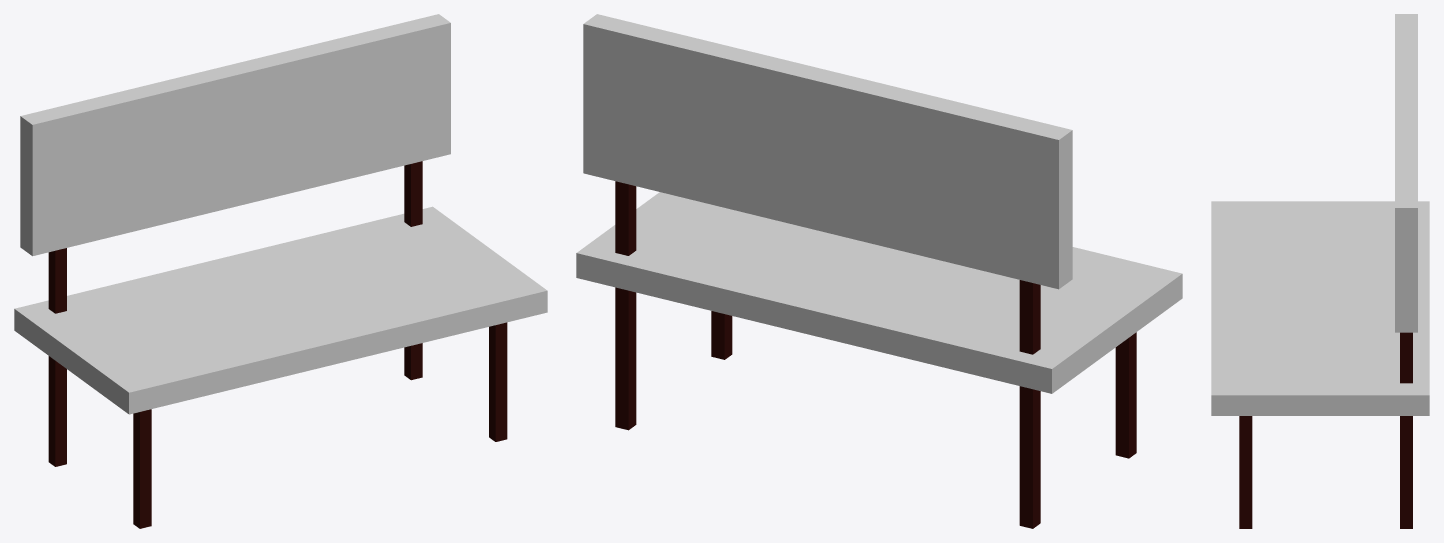
Rendered from Bench.fbx.
The picture shows the model from 3 angles, left to right: view 1: azimuth 30°, elevation 25°; view 2: azimuth 150°, elevation 25°; view 3: azimuth 270°, elevation 25°; orthographic projection. The views are drawn at different scales.
Parts seen in each view (by area): view 1: Bench; view 2: Bench; view 3: Bench.
Part boxes in pixels (x1,y1,x2,y2): Bench: [14, 14, 547, 528]; Bench: [576, 14, 1182, 528]; Bench: [1211, 14, 1429, 528].
Size of the model in its own units: 2 by 0.95 by 1.6.
